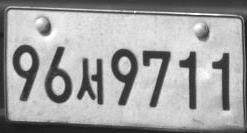1: (176, 50, 206, 110), (209, 51, 238, 111)
6: (43, 46, 73, 104)
7: (141, 49, 171, 108)
9: (11, 43, 40, 102), (110, 48, 138, 106)
서: (76, 57, 104, 105)
